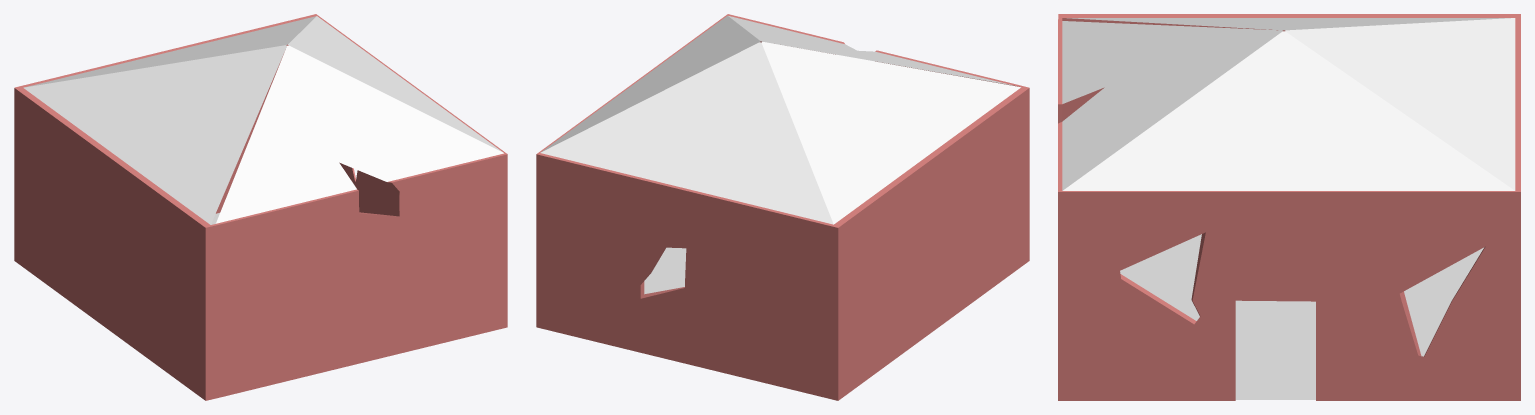
The model's file is storeV2.fbx.
3 views of the same model, side by side, from view 1: azimuth 30°, elevation 25°; view 2: azimuth 150°, elevation 25°; view 3: azimuth 270°, elevation 25° (orthographic). The views are drawn at different scales.
Visible parts, largest first — view 1: StoreV2; view 2: StoreV2; view 3: StoreV2.
Boxes of the visible parts, <box> form: StoreV2: <box>14,14,507,400</box>; StoreV2: <box>536,14,1029,400</box>; StoreV2: <box>1058,14,1520,400</box>.
Bounding box in the file's own units: 1715 × 1327 × 1886.
